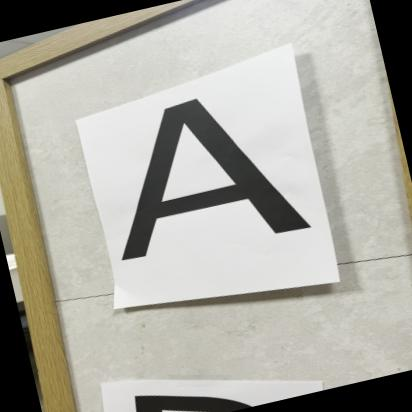seat: (76, 71, 338, 294)
